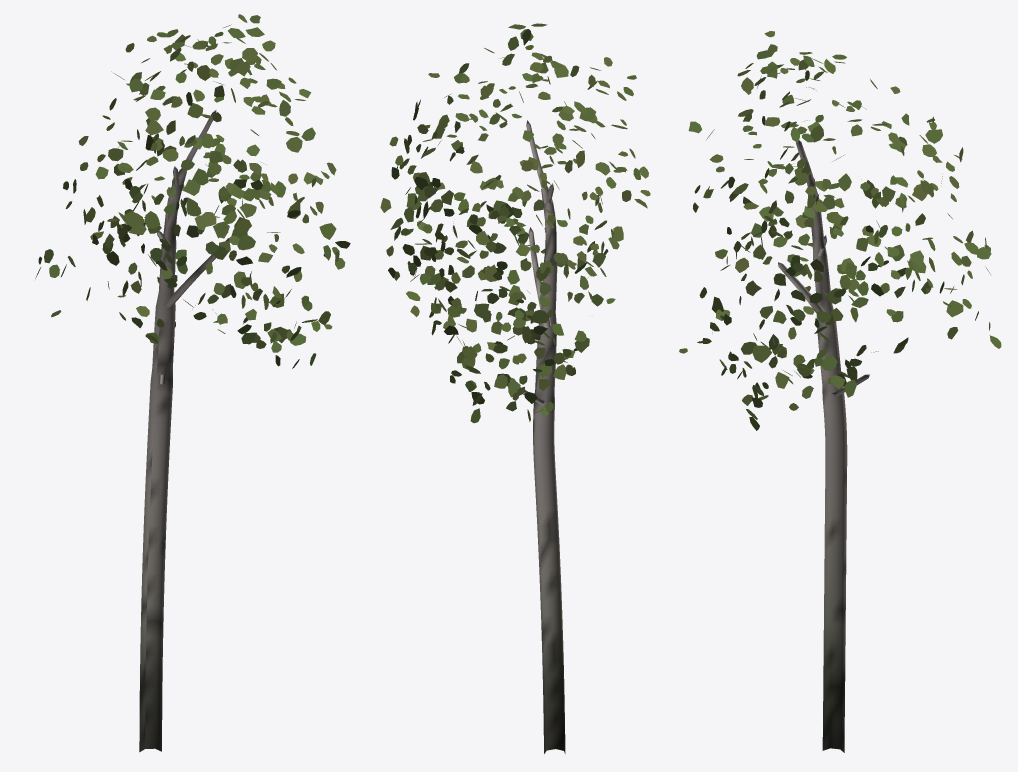
Rendered from SM_TreeFar_birch_0.glb.
The picture shows the model from 3 angles, left to right: view 1: azimuth 30°, elevation 25°; view 2: azimuth 150°, elevation 25°; view 3: azimuth 270°, elevation 25°; orthographic projection. The views are drawn at different scales.
Parts seen in each view (by area): view 1: SM_TreeFar_birch_0; view 2: SM_TreeFar_birch_0; view 3: SM_TreeFar_birch_0.
Part boxes in pixels (<box>): SM_TreeFar_birch_0: <box>35,14,350,752</box>; SM_TreeFar_birch_0: <box>380,23,650,753</box>; SM_TreeFar_birch_0: <box>679,31,1001,752</box>.
Size of the model in its own units: 4.32 by 12.25 by 4.9.
